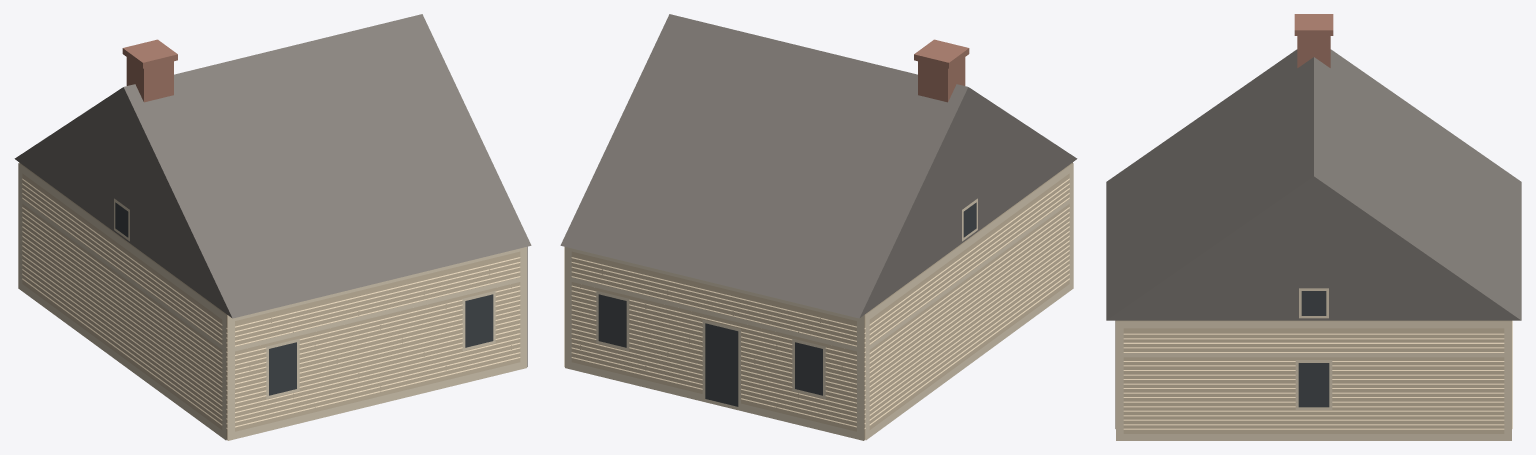
The model's file is recon_1835_blk_randolph_wells_h1_02__inferred_1835.glb.
3 views of the same model, side by side, from view 1: azimuth 30°, elevation 25°; view 2: azimuth 150°, elevation 25°; view 3: azimuth 270°, elevation 25° (orthographic). The views are drawn at different scales.
Parts seen in each view (by area): view 1: recon_1835_blk_randolph_wells_h1_02__inferred_1835; view 2: recon_1835_blk_randolph_wells_h1_02__inferred_1835; view 3: recon_1835_blk_randolph_wells_h1_02__inferred_1835.
Part boxes in pixels (x1,y1,x2,y2): recon_1835_blk_randolph_wells_h1_02__inferred_1835: (14, 14, 531, 440); recon_1835_blk_randolph_wells_h1_02__inferred_1835: (560, 14, 1077, 440); recon_1835_blk_randolph_wells_h1_02__inferred_1835: (1106, 14, 1521, 440).
Bounding box in the file's own units: 8.45 × 8.19 × 10.57.
